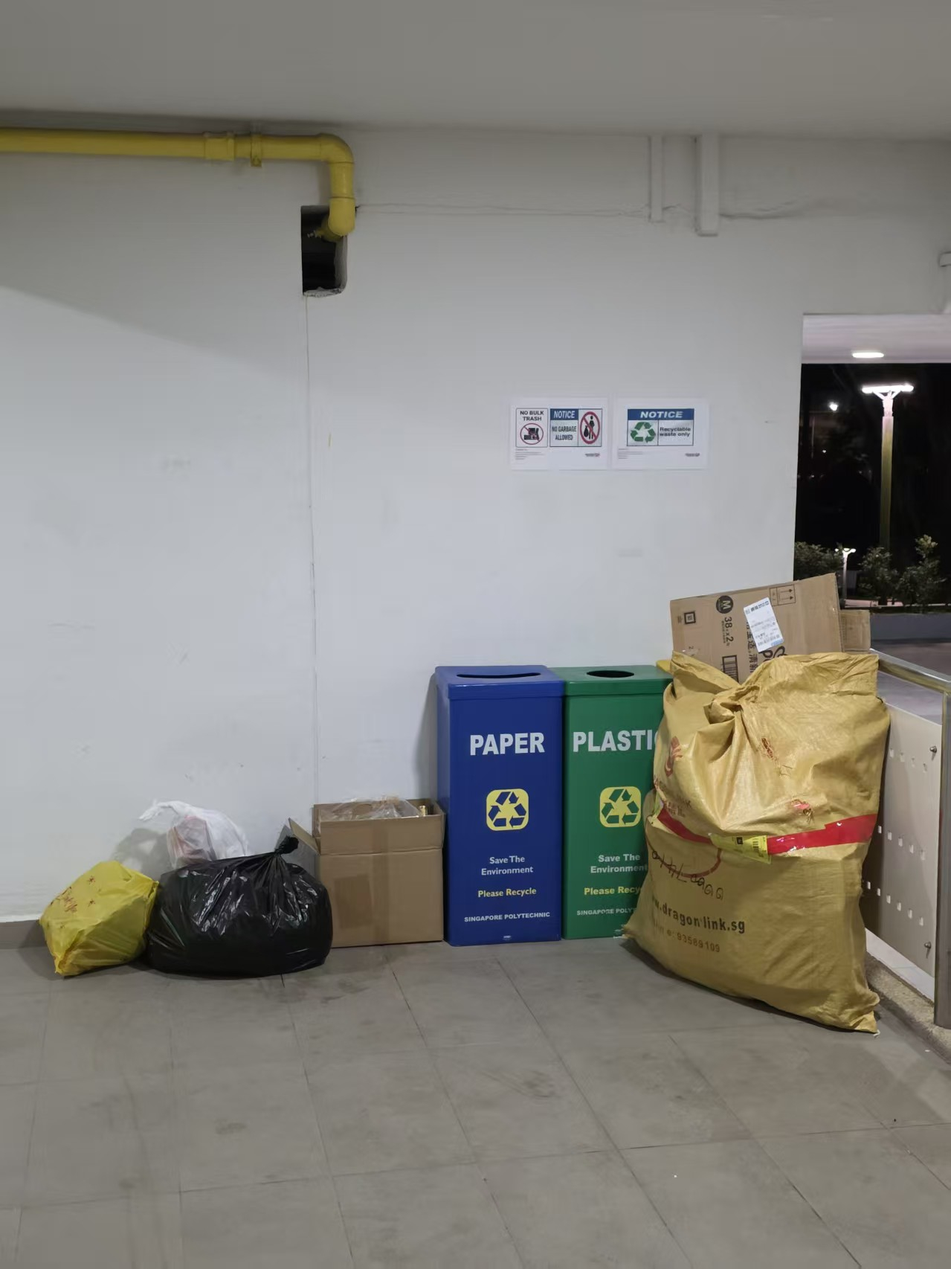bin_empty: (433, 663, 562, 946), (553, 664, 669, 940)
bulk_waste: (625, 653, 889, 1032), (288, 799, 445, 947), (671, 574, 870, 682), (39, 861, 158, 976)
normal_waste: (146, 835, 333, 977), (140, 801, 251, 866)
